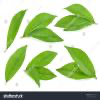Peach leaf: (64, 44, 96, 79), (23, 9, 58, 37), (4, 45, 28, 85), (6, 7, 28, 49), (55, 61, 92, 80), (62, 3, 96, 23), (25, 27, 64, 43), (26, 51, 59, 68), (63, 18, 93, 31), (36, 64, 57, 81), (25, 66, 40, 88), (54, 15, 73, 27)
